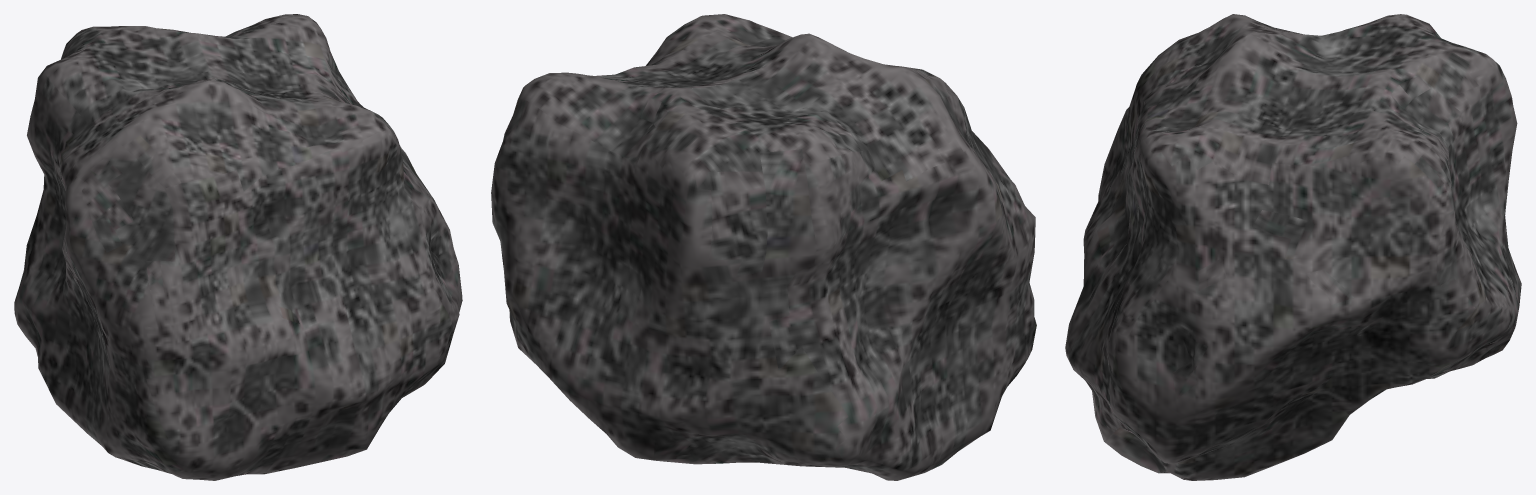
File: asteroid-01.glb
3 renders of one model, left to right at view 1: azimuth 30°, elevation 25°; view 2: azimuth 150°, elevation 25°; view 3: azimuth 270°, elevation 25°, orthographic. The views are drawn at different scales.
Parts seen in each view (by area): view 1: Asteroid; view 2: Asteroid; view 3: Asteroid.
Part boxes in pixels (left/top/right/bottom): Asteroid: left=14, top=14, right=462, bottom=480; Asteroid: left=491, top=14, right=1036, bottom=480; Asteroid: left=1065, top=14, right=1521, bottom=480.
Size of the model in its own units: 8.59 by 8.11 by 8.44.
Materials: 1 (1 with a texture image).
